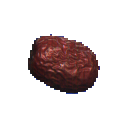gd: (21, 16, 110, 128)
